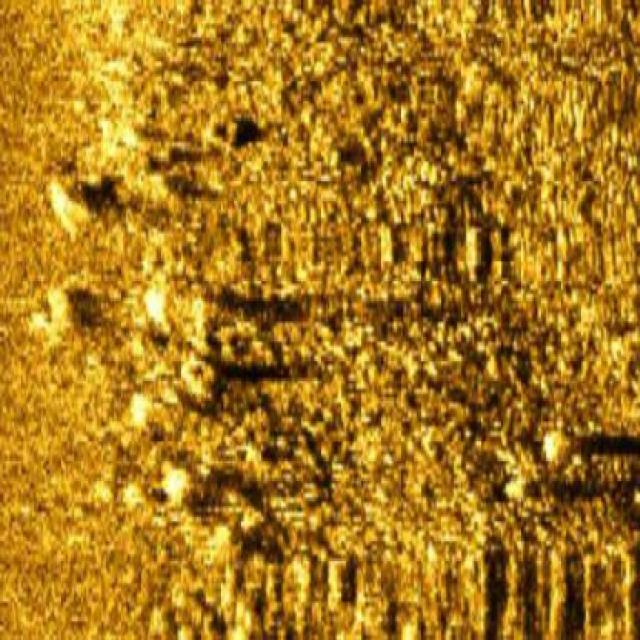bedrock group: (132, 0, 638, 638)
